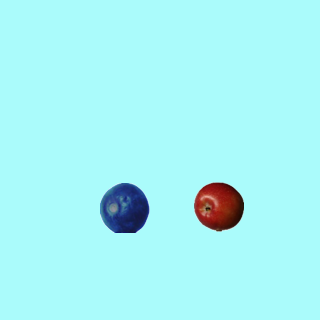Apple Braeburn: (193, 181, 243, 231)
Huckleberry: (99, 182, 149, 232)
